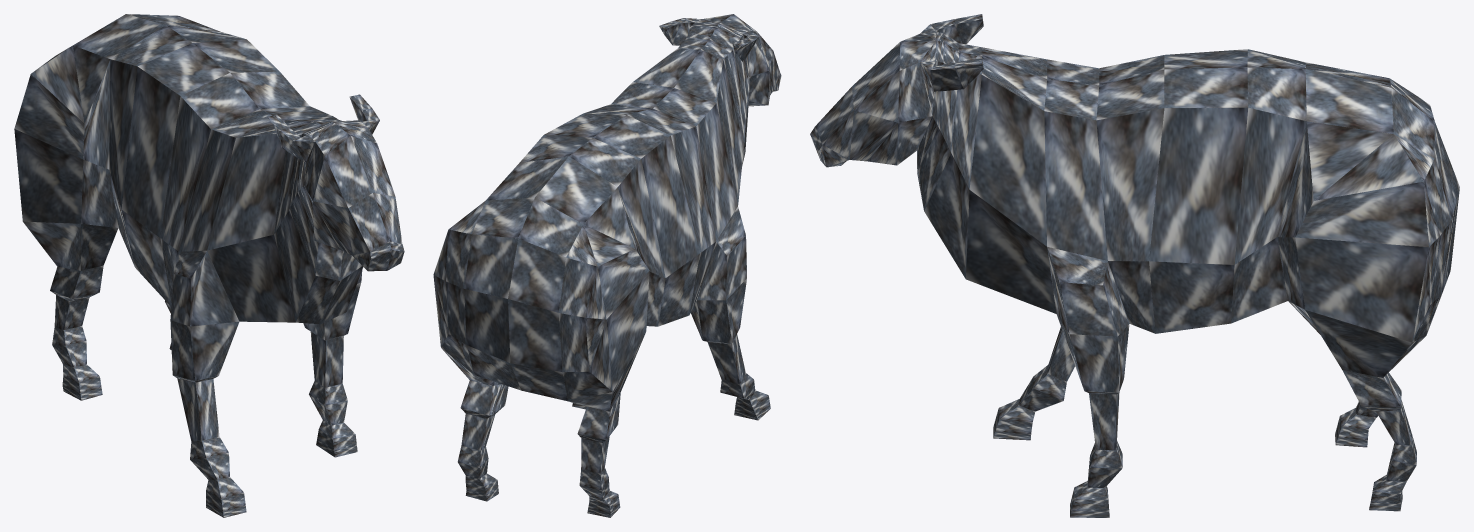
File: SheepIdle_000007.obj
The picture shows the model from 3 angles, left to right: view 1: azimuth 30°, elevation 25°; view 2: azimuth 150°, elevation 25°; view 3: azimuth 270°, elevation 25°; orthographic projection. The views are drawn at different scales.
Visible parts, largest first — view 1: Sheep_Cylinder; view 2: Sheep_Cylinder; view 3: Sheep_Cylinder.
Part boxes in pixels (x1,y1,x2,y2): Sheep_Cylinder: (14,14,404,517); Sheep_Cylinder: (433,14,781,517); Sheep_Cylinder: (810,14,1459,517).
Bounding box in the file's own units: 2.22 × 4.38 × 5.92.
